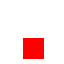square: (23, 38, 43, 58)
